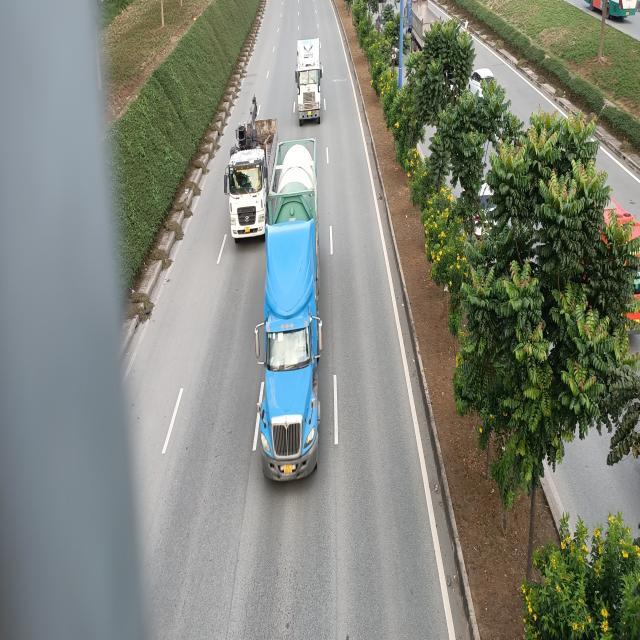container: (254, 137, 324, 477), (293, 37, 322, 125)
truck: (224, 110, 272, 239)
